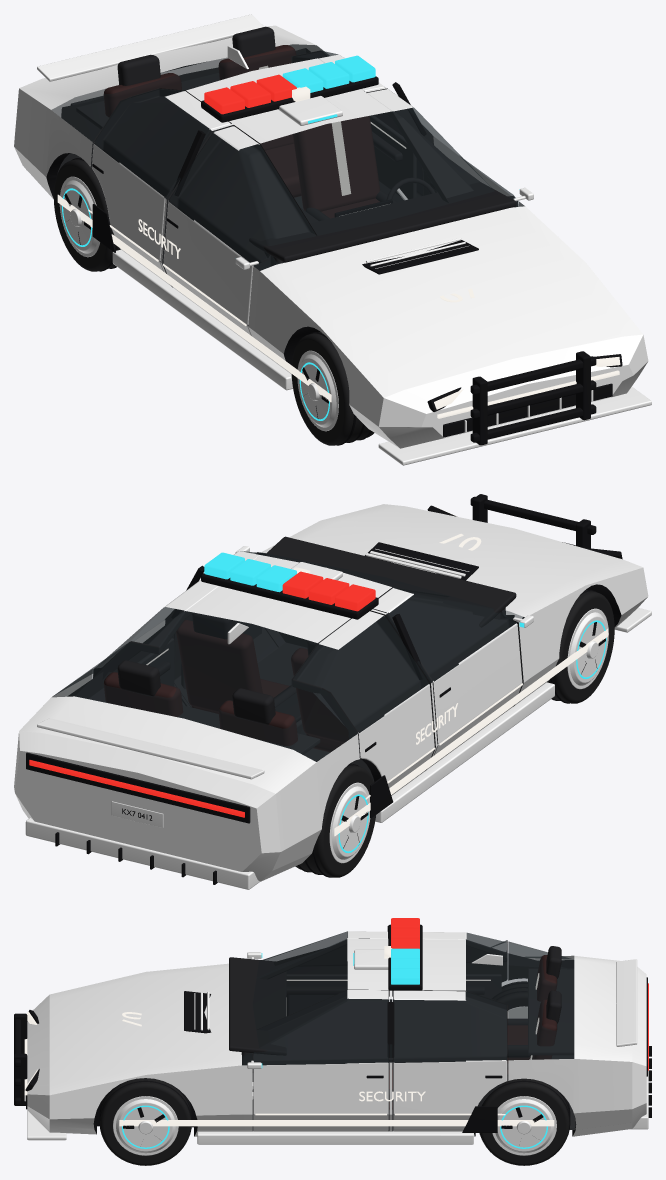
File: car_patrol.glb
3 renders of one model, top to bottom at view 1: azimuth 30°, elevation 25°; view 2: azimuth 150°, elevation 25°; view 3: azimuth 270°, elevation 25°, orthographic. The views are drawn at different scales.
Visible parts, largest first — view 1: body, door_FR, door_RR, dash_top, seat_back, door_FL, spoiler, skirt, splitter, tire.001, tire.003, sec_stripe (+27 smaller); view 2: body, door_RR, door_FR, dash_top, seat_back, diffuser, skirt, door_RL, tail_panel, spoiler, tire.003, tire.001 (+26 smaller); view 3: body, door_FL, door_RL, dash_top, skirt.001, tire, door_FR, tire.002, sec_stripe.001, rear_shelf, aero_cover, aero_cover.002 (+22 smaller).
Boxes of the visible parts, x1,y1,x2,y2 form: body: (14, 25, 648, 448); door_FR: (163, 126, 316, 349); door_RR: (92, 88, 230, 284); dash_top: (249, 182, 516, 262); seat_back: (292, 116, 379, 211); door_FL: (367, 89, 518, 207); spoiler: (37, 14, 264, 81); skirt: (112, 249, 292, 390); splitter: (378, 386, 651, 465); tire.001: (291, 331, 374, 445); tire.003: (53, 158, 120, 271); sec_stripe: (57, 194, 331, 402); body: (14, 504, 648, 881); door_RR: (292, 611, 434, 795); door_FR: (373, 587, 522, 768); dash_top: (264, 536, 516, 627); seat_back: (176, 620, 262, 712); diffuser: (25, 817, 259, 889); skirt: (375, 682, 554, 822); door_RL: (93, 580, 218, 705); tail_panel: (26, 752, 250, 823); spoiler: (37, 718, 264, 779); tire.003: (295, 760, 375, 877); tire.001: (547, 590, 614, 703); body: (27, 938, 646, 1136); door_FL: (253, 990, 388, 1131); door_RL: (393, 990, 507, 1131); dash_top: (229, 957, 286, 1055); skirt.001: (197, 1131, 473, 1144); tire: (100, 1078, 190, 1165); door_FR: (257, 931, 388, 979); tire.002: (480, 1074, 569, 1165); sec_stripe.001: (119, 1120, 554, 1126); rear_shelf: (528, 968, 574, 1055); aero_cover: (116, 1099, 175, 1153); aero_cover.002: (495, 1099, 553, 1153).
Bounding box in the file's own units: 2.03 × 1.41 × 4.84.
